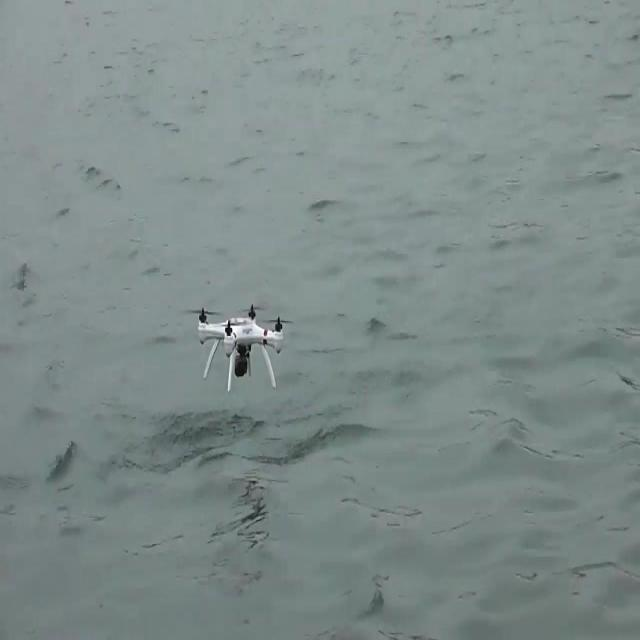drone: (189, 302, 296, 398)
